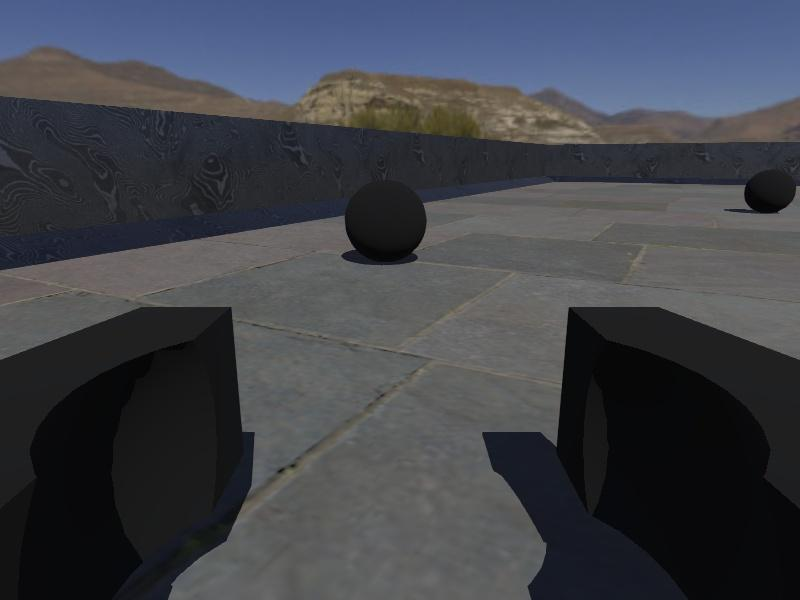black ball: (345, 178, 428, 262), (744, 168, 796, 214)
